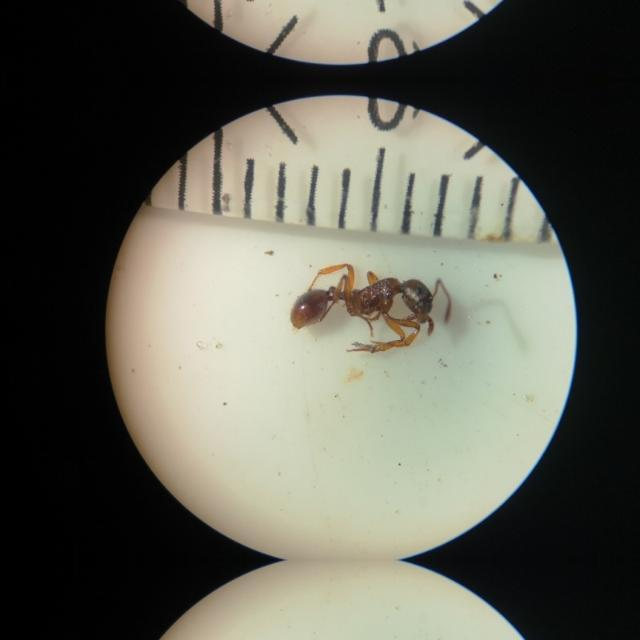Myrmica: (284, 243, 452, 345)
